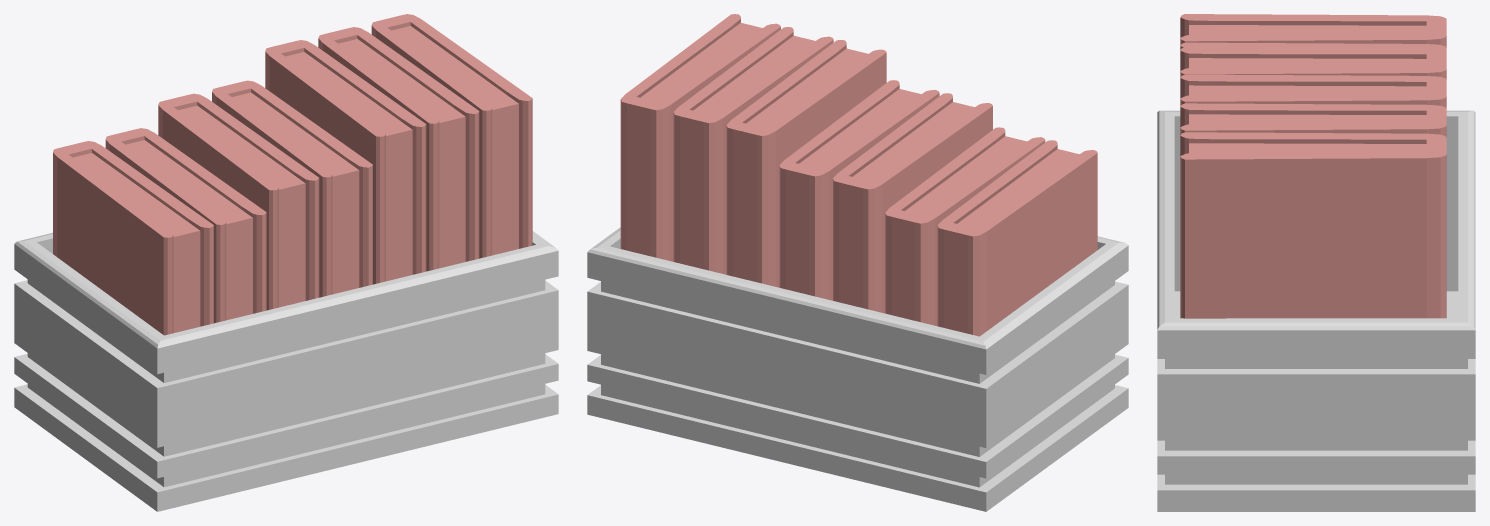
File: PilaDeLibros02.fbx
3 renders of one model, left to right at view 1: azimuth 30°, elevation 25°; view 2: azimuth 150°, elevation 25°; view 3: azimuth 270°, elevation 25°, orthographic. The views are drawn at different scales.
Visible parts, largest first — view 1: Cube.040, Pila01.007, Pila01.001, Pila01.004; view 2: Cube.040, Pila01.007, Pila01.001, Pila01.004; view 3: Cube.040, Pila01.007, Pila01.001, Pila01.004.
Boxes of the visible parts, x1,y1,x2,y2 form: Cube.040: (14, 231, 558, 511); Pila01.007: (265, 14, 532, 284); Pila01.001: (53, 128, 266, 335); Pila01.004: (158, 80, 372, 310); Cube.040: (587, 227, 1128, 511); Pila01.007: (620, 14, 886, 287); Pila01.001: (885, 127, 1097, 336); Pila01.004: (779, 80, 992, 313); Cube.040: (1157, 110, 1475, 511); Pila01.007: (1180, 74, 1446, 318); Pila01.001: (1180, 14, 1446, 52); Pila01.004: (1180, 47, 1446, 79).
Bounding box in the file's own units: 159 × 117 × 98.17.
